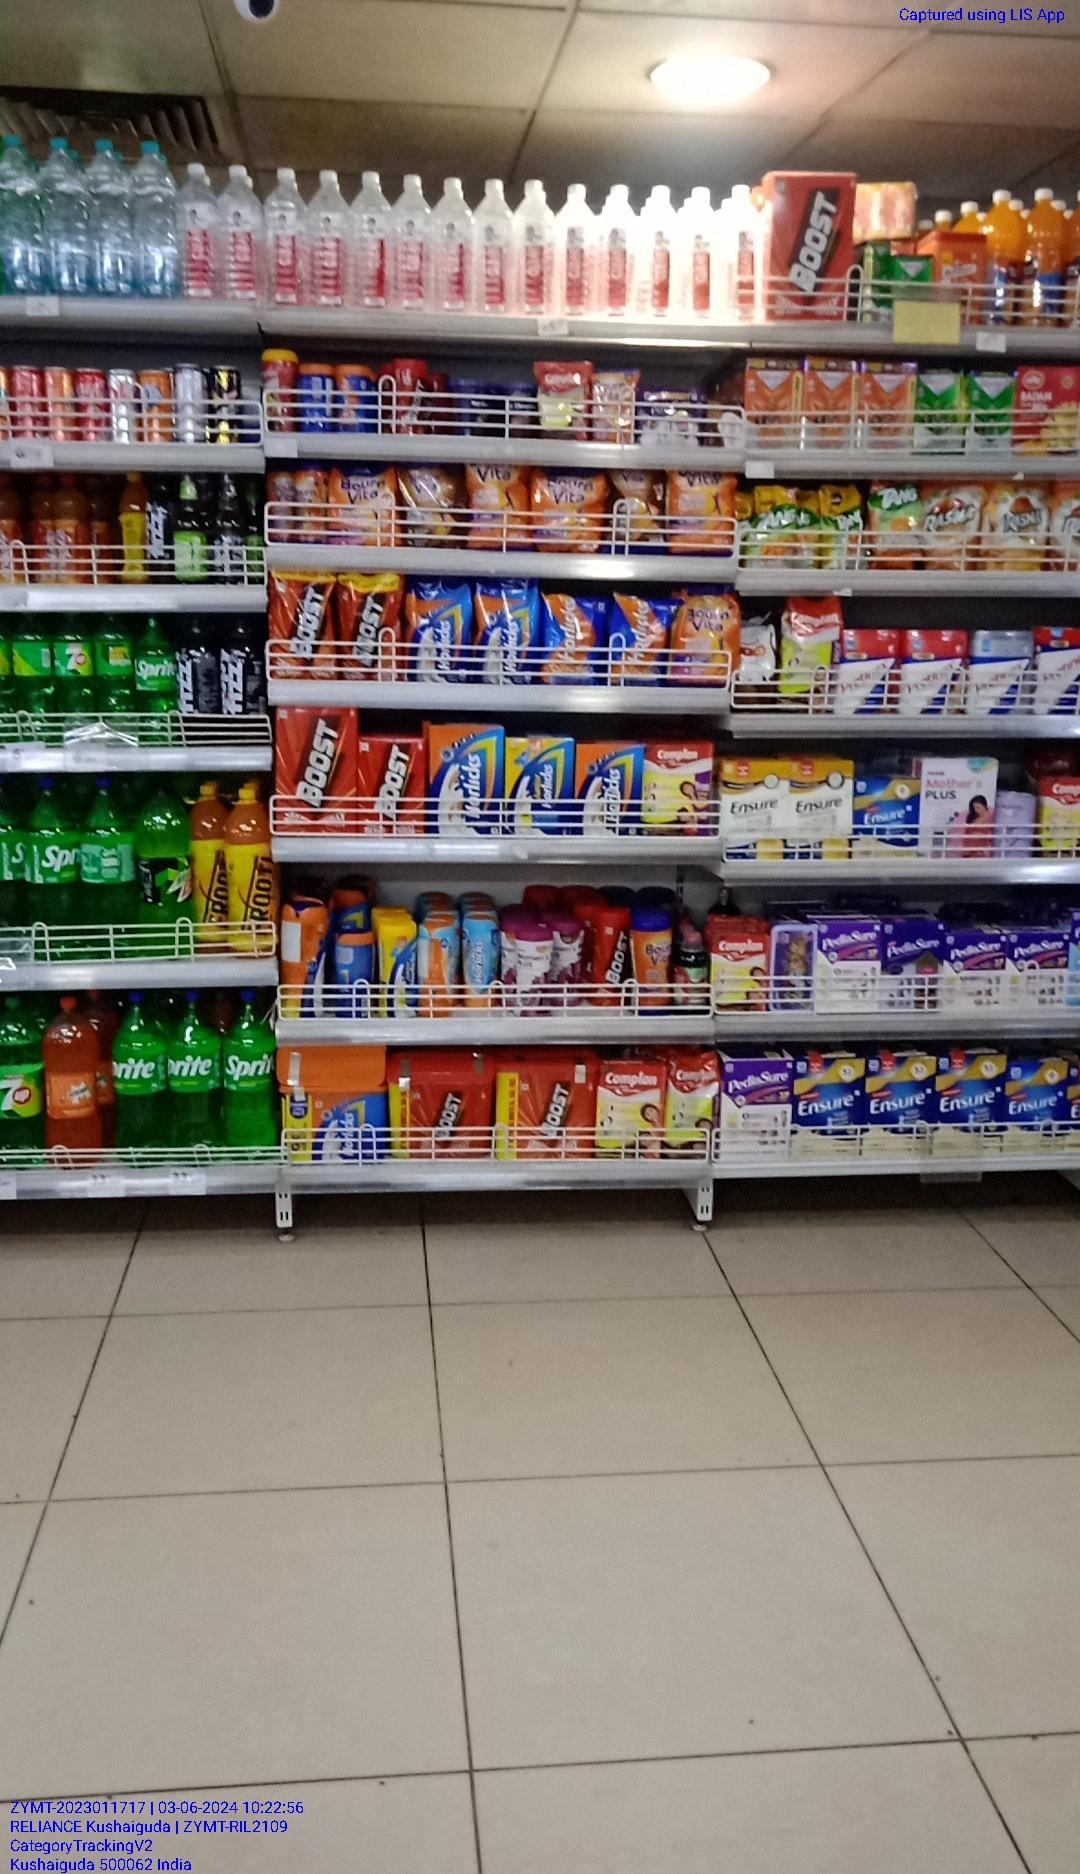BOURN_VITA_FIVE_STAR_MAGIC_500_G_POUCH: (395, 459, 470, 548), (608, 467, 666, 551)
ENSURE_VANILLA_400_G_PACK: (790, 1057, 862, 1155), (865, 1058, 933, 1149), (933, 1055, 1003, 1140), (857, 776, 920, 862), (1007, 1058, 1066, 1148)
HORLICKS_JUNIOR_VANILLA_500_GM_JAR: (376, 919, 420, 1021)
HORLICKS_LITE_REGULAR_MALT_500_GM_JAR: (463, 914, 501, 1008)
HORLICK_CLASSIC_MALT_500_G_PACK: (575, 741, 642, 837)
HORLICK_MALT_1_KG_CONTAINER: (279, 1082, 385, 1161)
PROTINEX_CHOCOLATE_400_G_JAR: (838, 631, 902, 713)
PROTINEX_ORIGINAL_400_G_JAR: (972, 631, 1036, 713)
PROTINEX_VANILLA_400_G_JAR: (906, 629, 965, 714)
